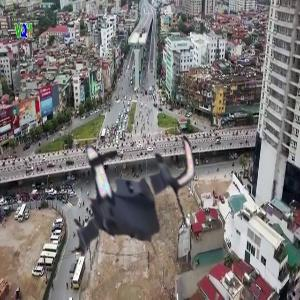drone: (49, 114, 210, 275)
